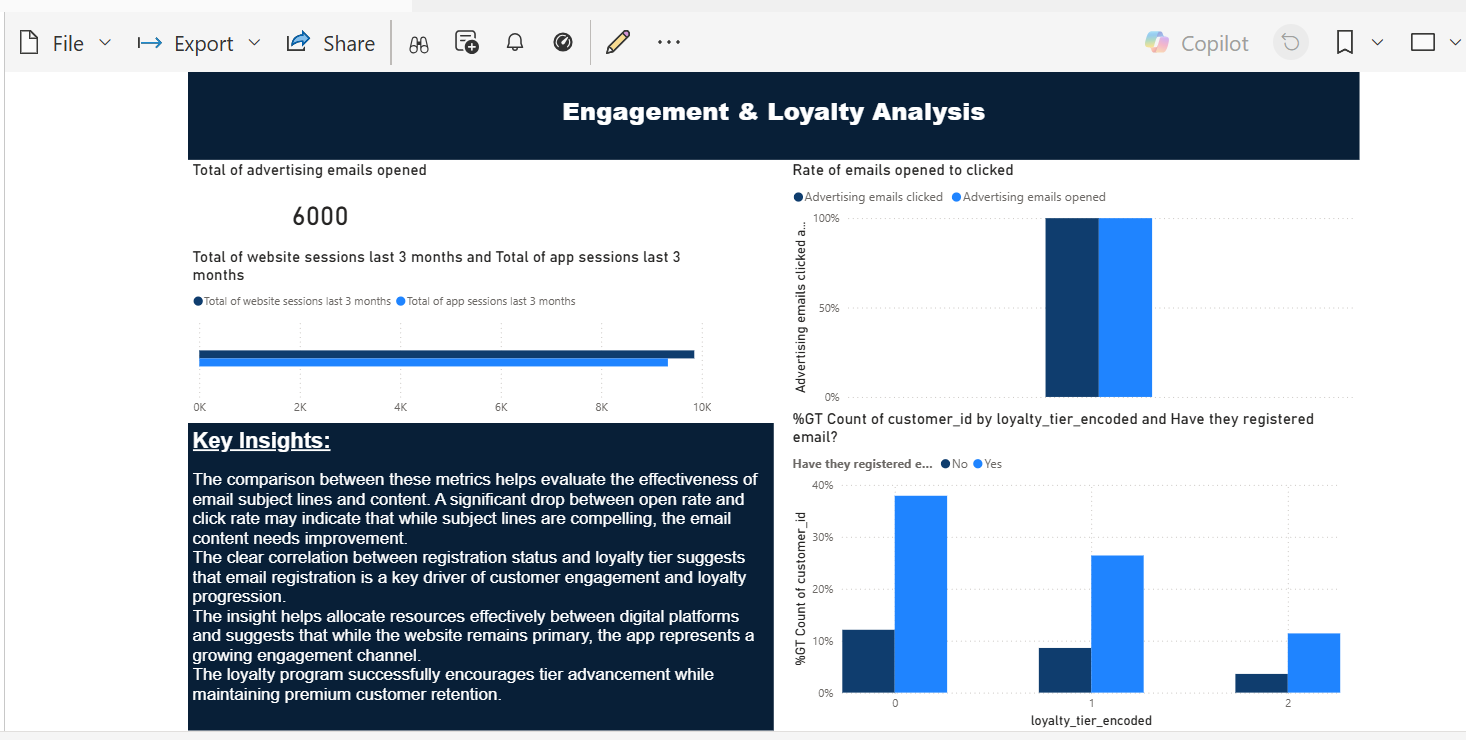

The page's visual inventory and layout, read from the dashboard file:
{"tool":"powerbi","page":{"name":"Engagement & Loyalty Analysis","canvas":[1280,720],"ordinal":1},"visuals":[{"type":"clusteredColumnChart","fields":{"Series":["customer.Have they registered email?"],"Y":["CountNonNull(customer.customer_id)"],"Category":["customer.loyalty_tier_encoded"]},"box":[656,368,608,352],"z":0},{"type":"clusteredColumnChart","title":"Rate of emails opened to clicked","fields":{"Y":["CountNonNull(engagement.email_click_rate)","CountNonNull(engagement.email_open_rate)"]},"box":[656,96,624,272],"z":1000},{"type":"card","title":"Total of advertising emails opened","fields":{"Values":["CountNonNull(engagement.email_click_rate)"]},"box":[0,96,288,96],"z":2000},{"type":"clusteredBarChart","fields":{"Y":["Sum(engagement.website_sessions_3m)","Sum(engagement.app_sessions_3m)"]},"box":[0,192,576,192],"z":3000},{"type":"textbox","box":[0,0,1280,96],"z":4000},{"type":"textbox","box":[0,384,640,336],"z":5000}]}

Visuals, with their boxes on the page's 1280x720 design canvas (x1, y1, x2, y2). These are canvas units, not pixel positions in the 1466x740 screenshot, which may show the page scaled, cropped or inside an application window:
clusteredColumnChart - customer.Have they registered email? x CountNonNull(customer.customer_id): left=656, top=368, right=1264, bottom=720
"Rate of emails opened to clicked" clusteredColumnChart: left=656, top=96, right=1280, bottom=368
"Total of advertising emails opened" card: left=0, top=96, right=288, bottom=192
clusteredBarChart - Sum(engagement.website_sessions_3m) x Sum(engagement.app_sessions_3m): left=0, top=192, right=576, bottom=384
textbox: left=0, top=0, right=1280, bottom=96
textbox: left=0, top=384, right=640, bottom=720
